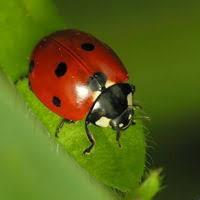ladybug: (14, 29, 146, 158)
